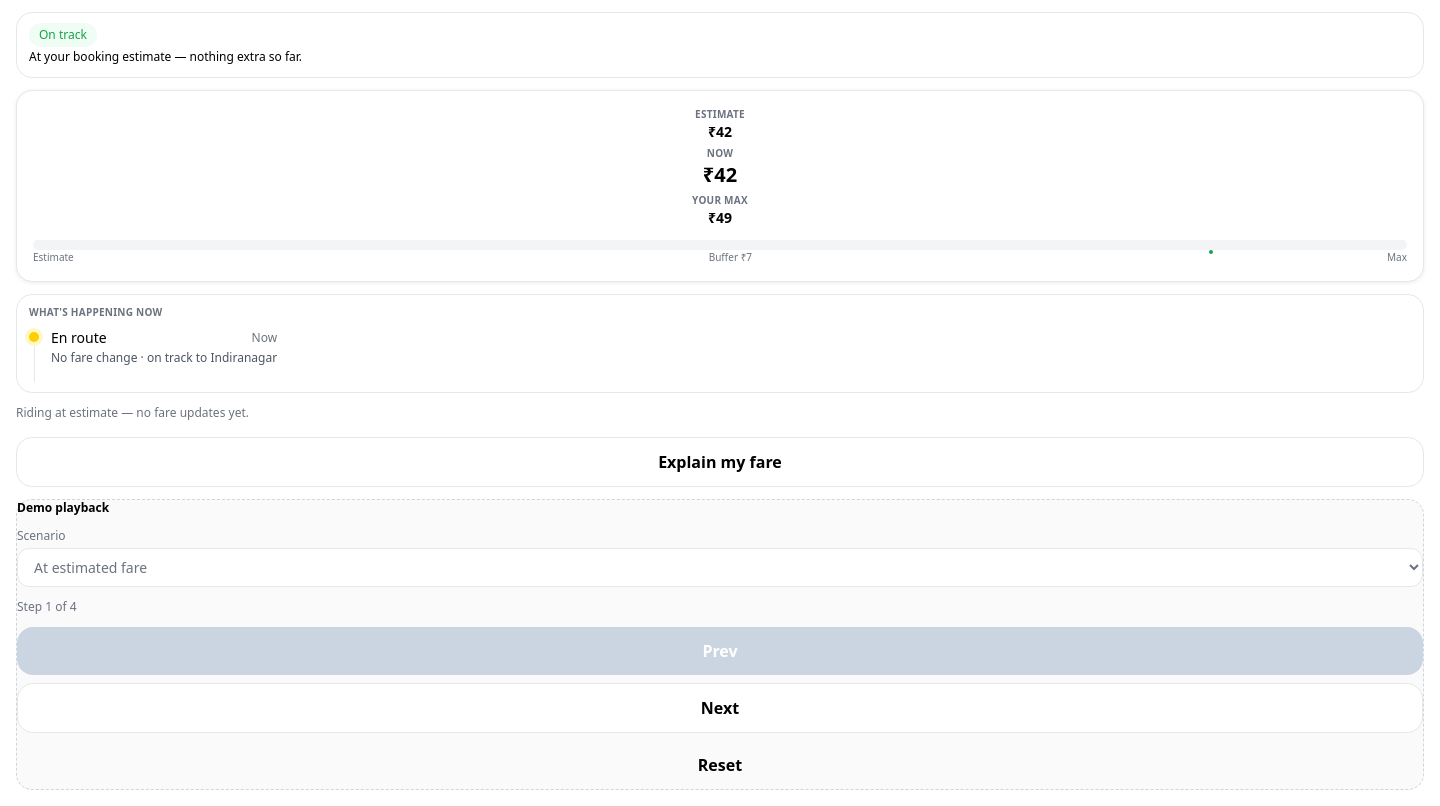
Test case: live ride scenario integration › renders within_max scenario correctly at final step
The width and height of the screenshot is (1440, 806).
(page scrolled)
Expected: the element with test id "fare-trust-indicator" is shown, [16,12,1424,78]
Select "At estimated fare" in the dropdown with test id "playback-scenario-select" at (720, 567), box [17,548,1423,587]
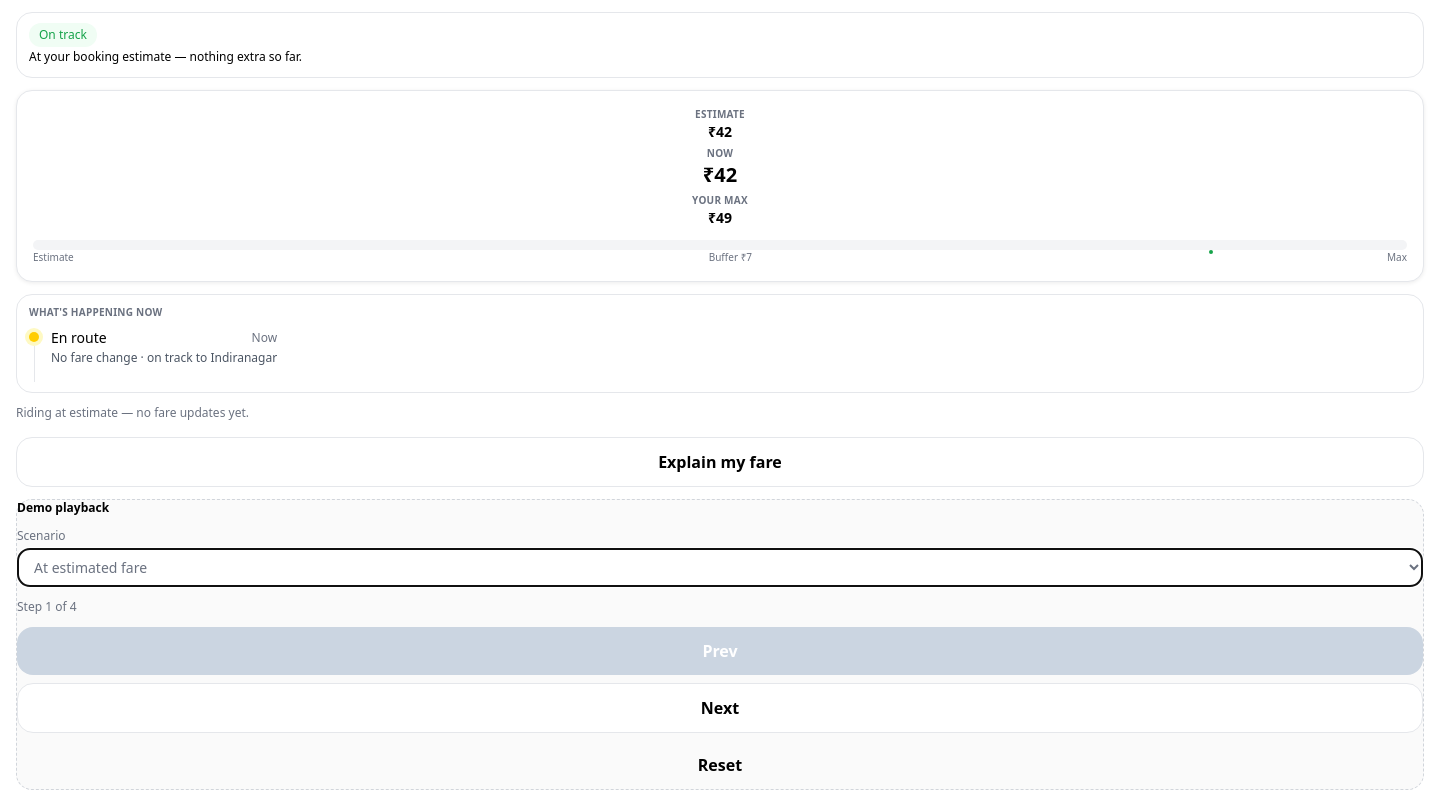
Click the button "Next" at (720, 708), box [17,683,1423,733]
(page scrolled)
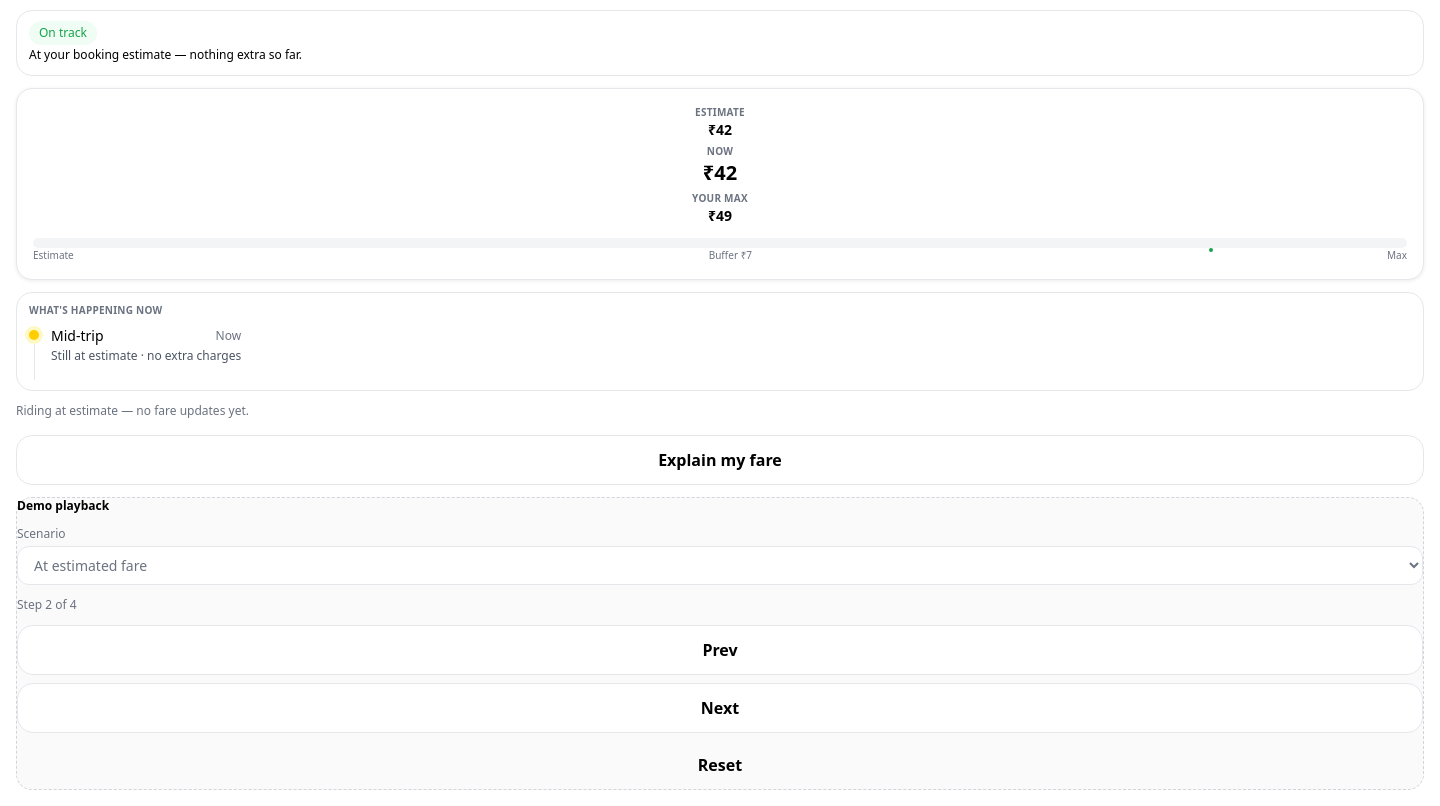
Click the button "Next" at (720, 708), box [17,683,1423,733]
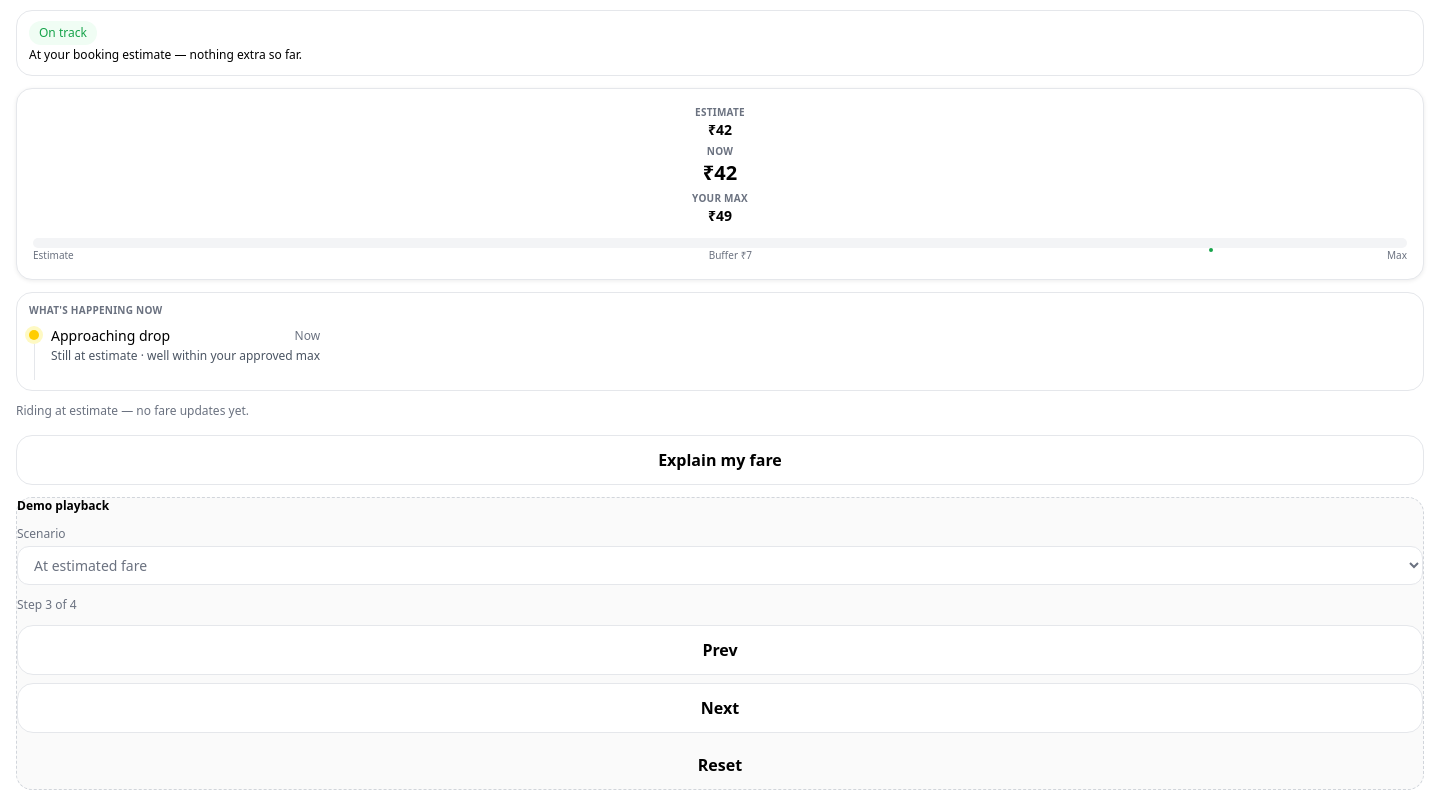
Expected: the text "On track" is shown, [29,21,97,45]
Result: the element with test id "live-ride-event-timeline" shows "Approaching drop" at [51,326,170,345]
Result: the element with test id "live-ride-event-timeline" shows "within your approved max" at [51,347,320,364]
